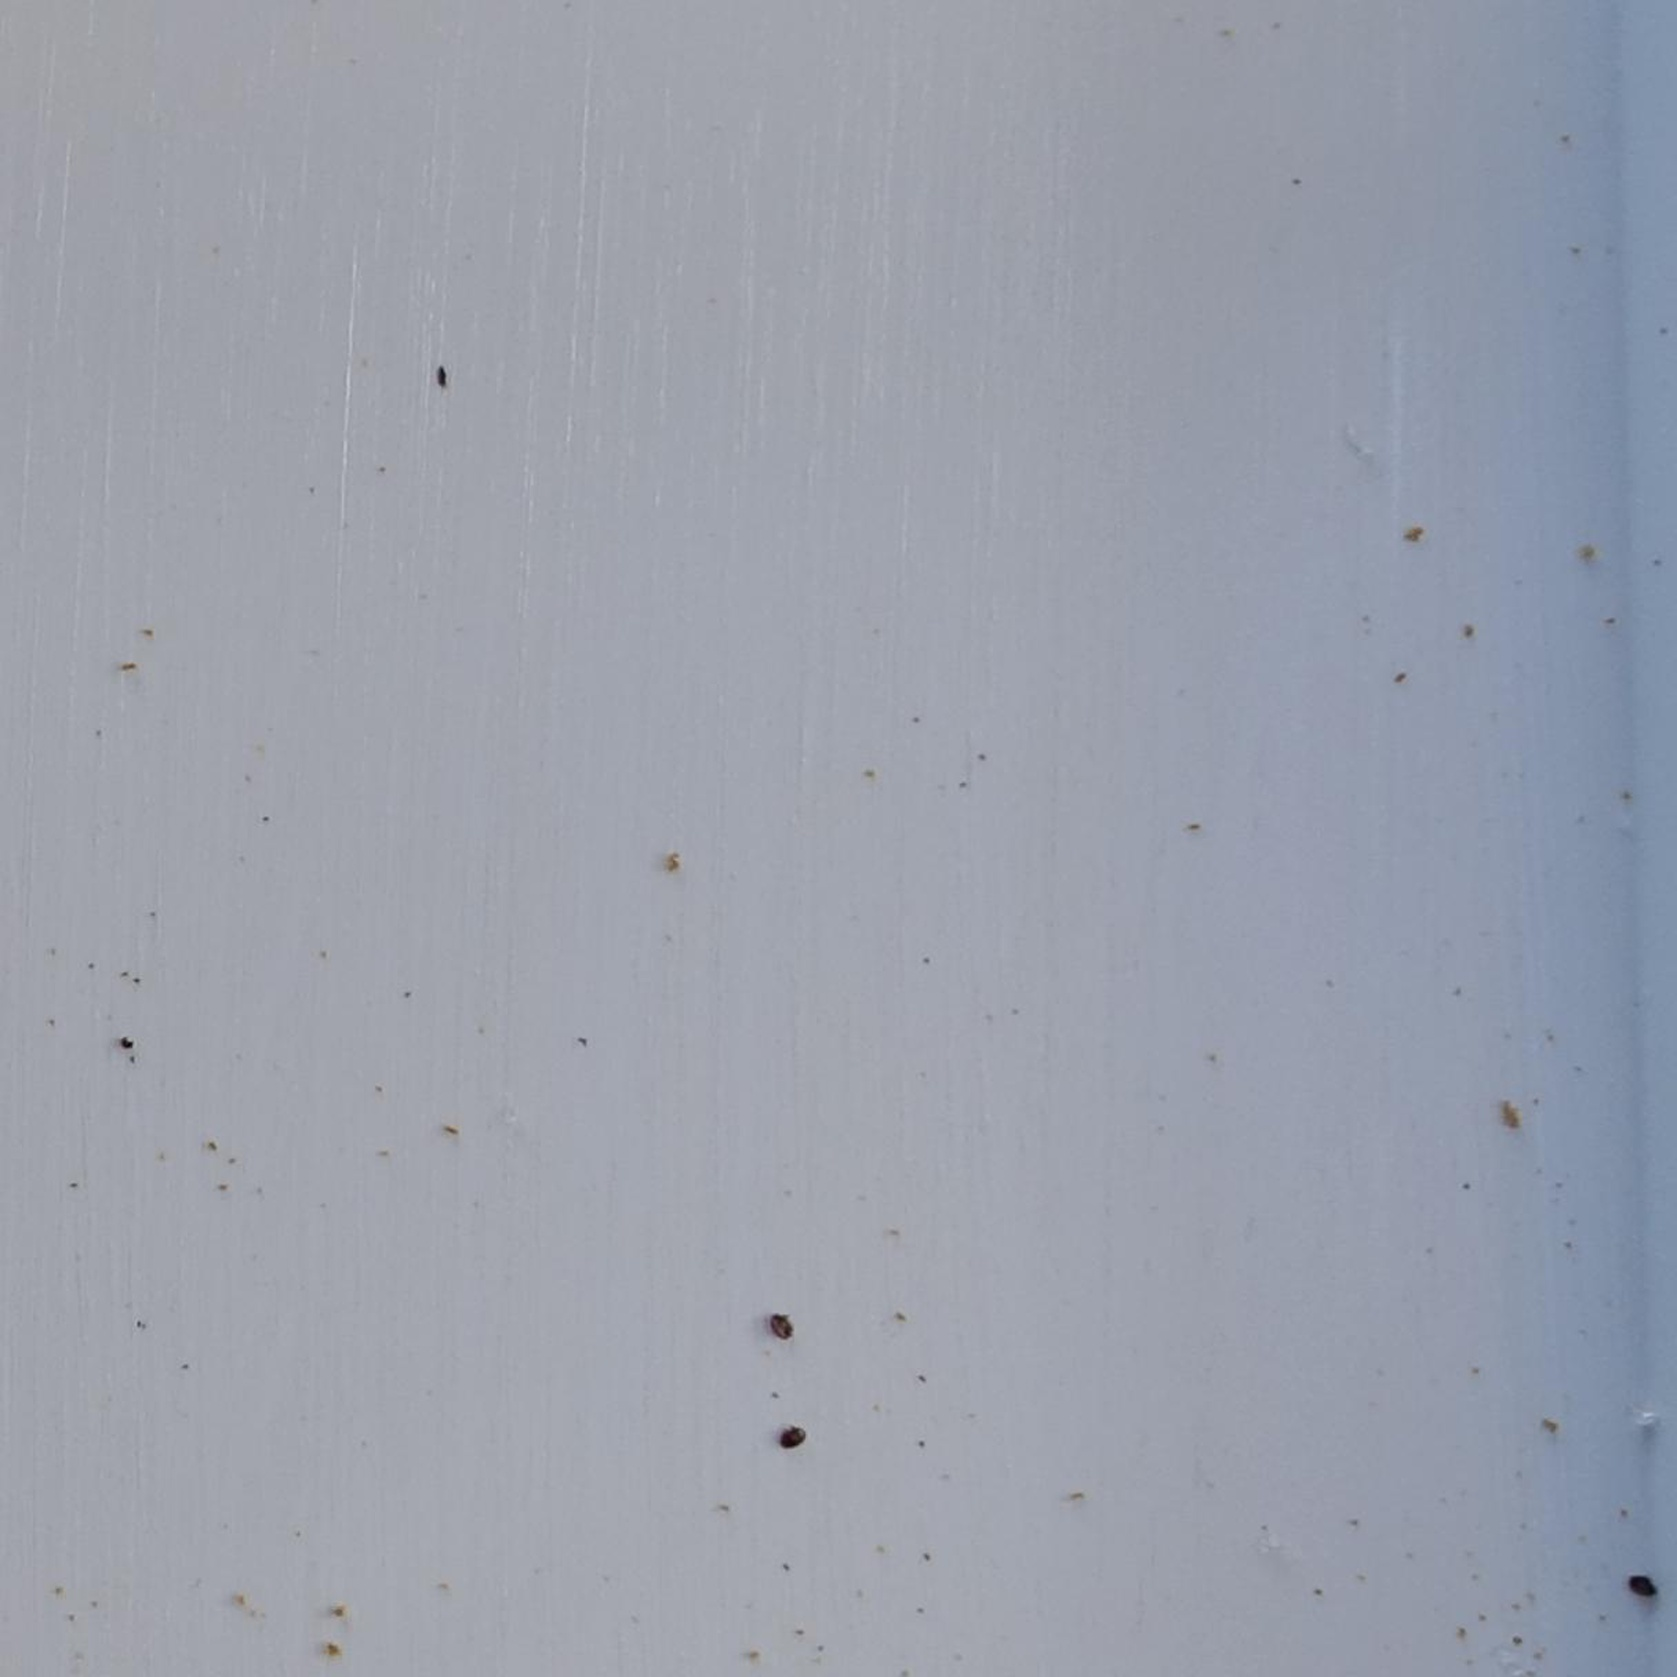Varroa: (777, 1424, 803, 1450), (769, 1313, 792, 1338)
